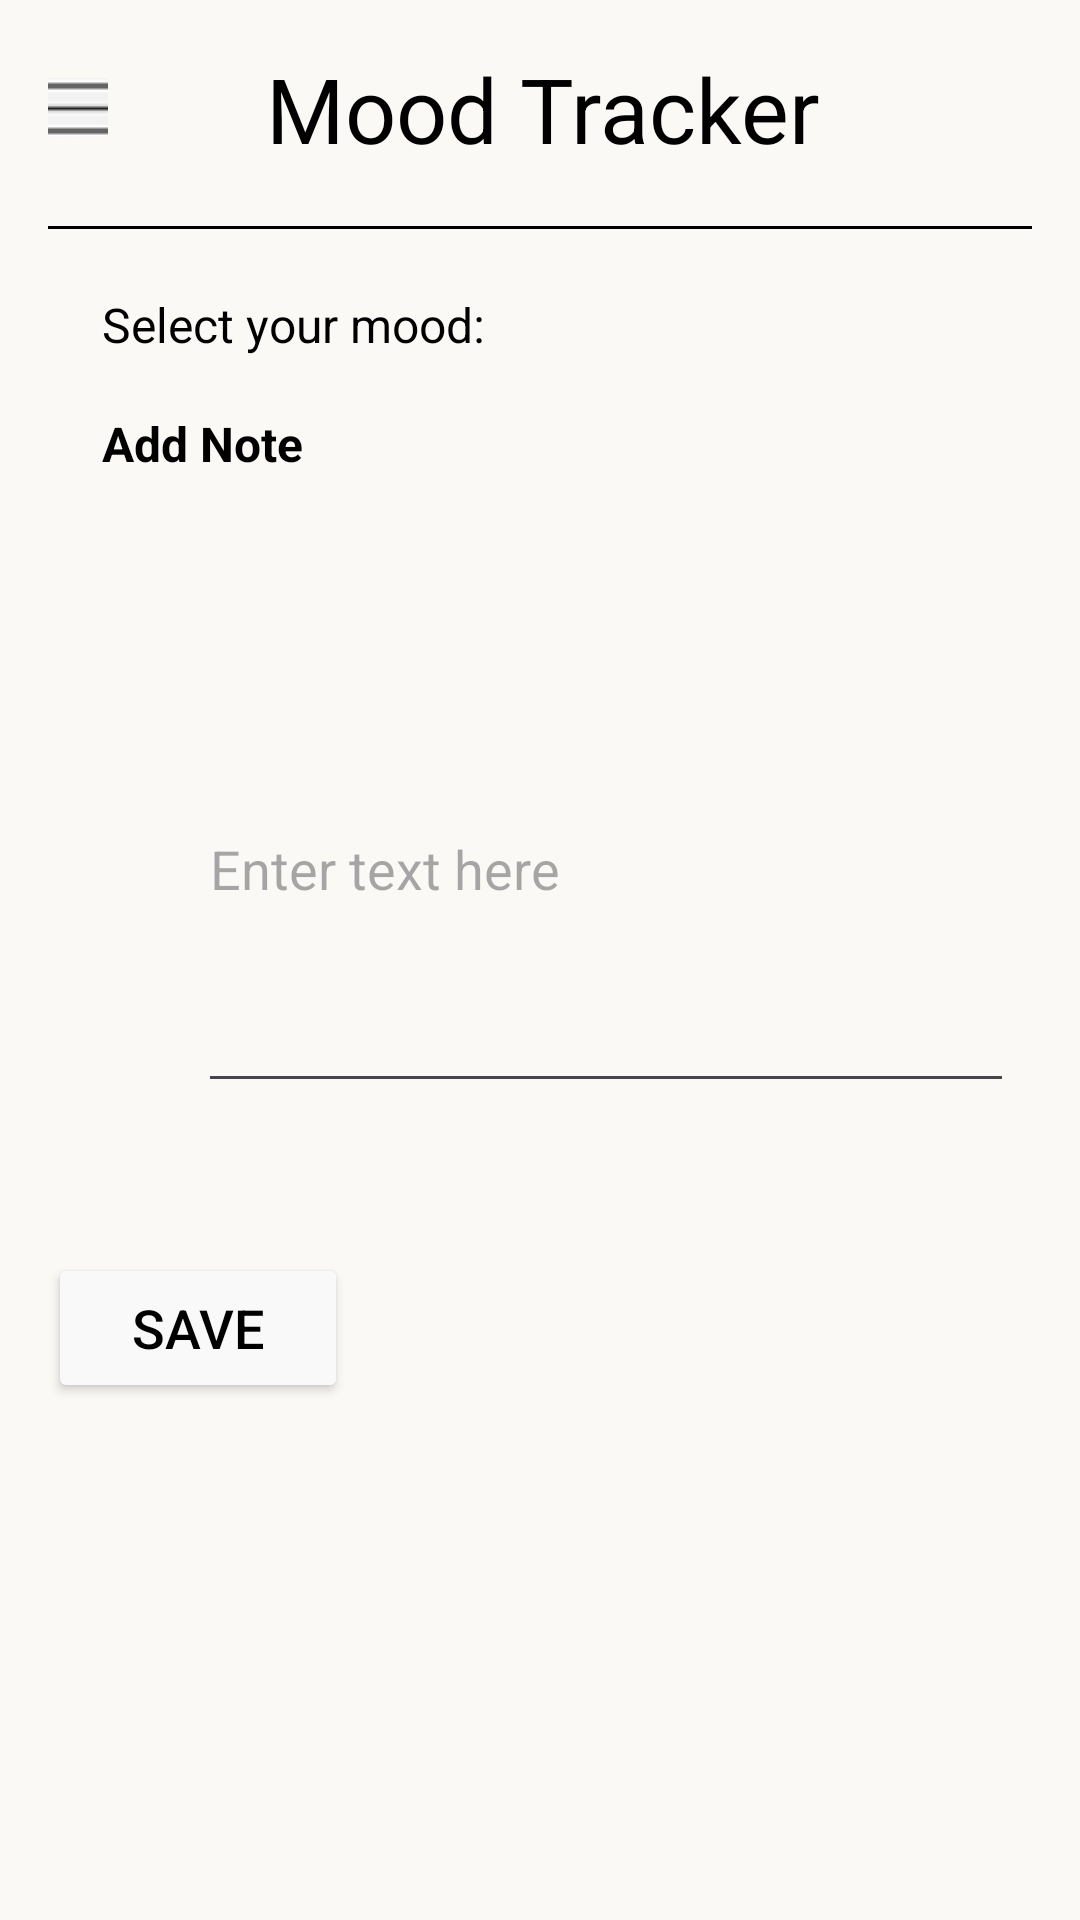

Screen size 1080 × 1920. Icon name, then its box in pixels as [left=x1, top=y1, right=x2, bottom=y2]:
Menu: [left=48, top=82, right=108, bottom=135]
